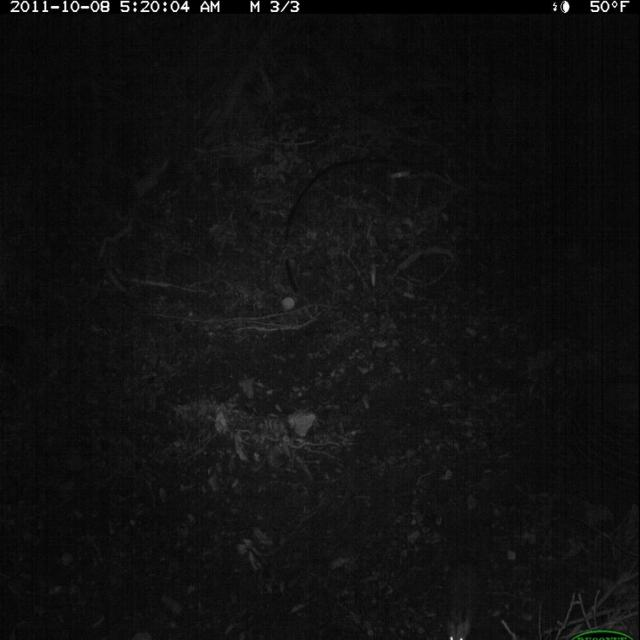opossum: (437, 546, 485, 640)
